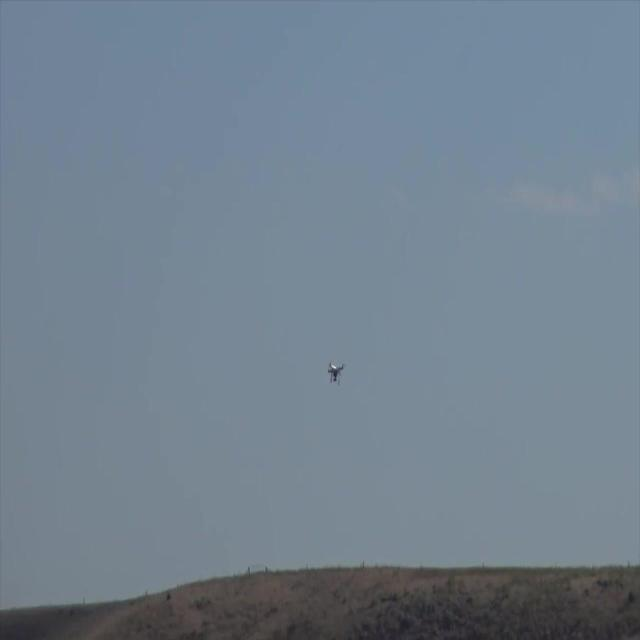drone: (324, 357, 346, 386)
